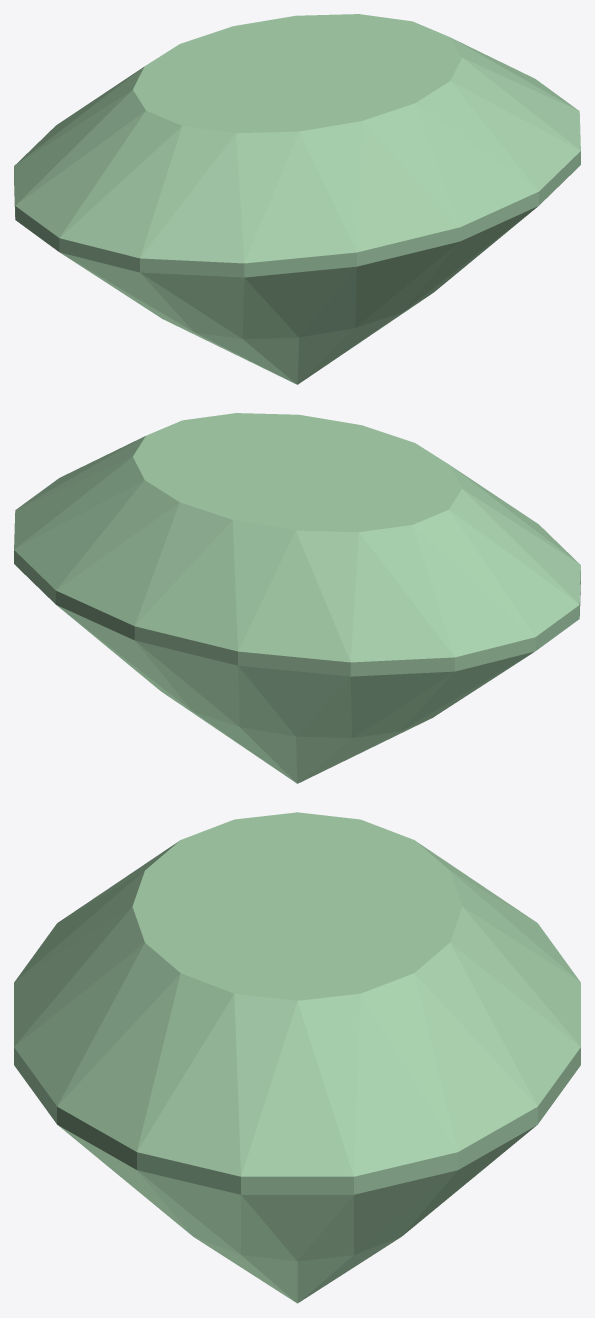
The model's file is tsavorite.glb.
3 renders of one model, top to bottom at view 1: azimuth 30°, elevation 25°; view 2: azimuth 150°, elevation 25°; view 3: azimuth 270°, elevation 25°, orthographic. The views are drawn at different scales.
Visible parts, largest first — view 1: tsavorite; view 2: tsavorite; view 3: tsavorite.
Part boxes in pixels (bbox=[...]): tsavorite: bbox=[14, 14, 580, 384]; tsavorite: bbox=[14, 413, 580, 783]; tsavorite: bbox=[14, 812, 580, 1303].
Size of the model in its own units: 0.25 by 0.1429 by 0.185.
